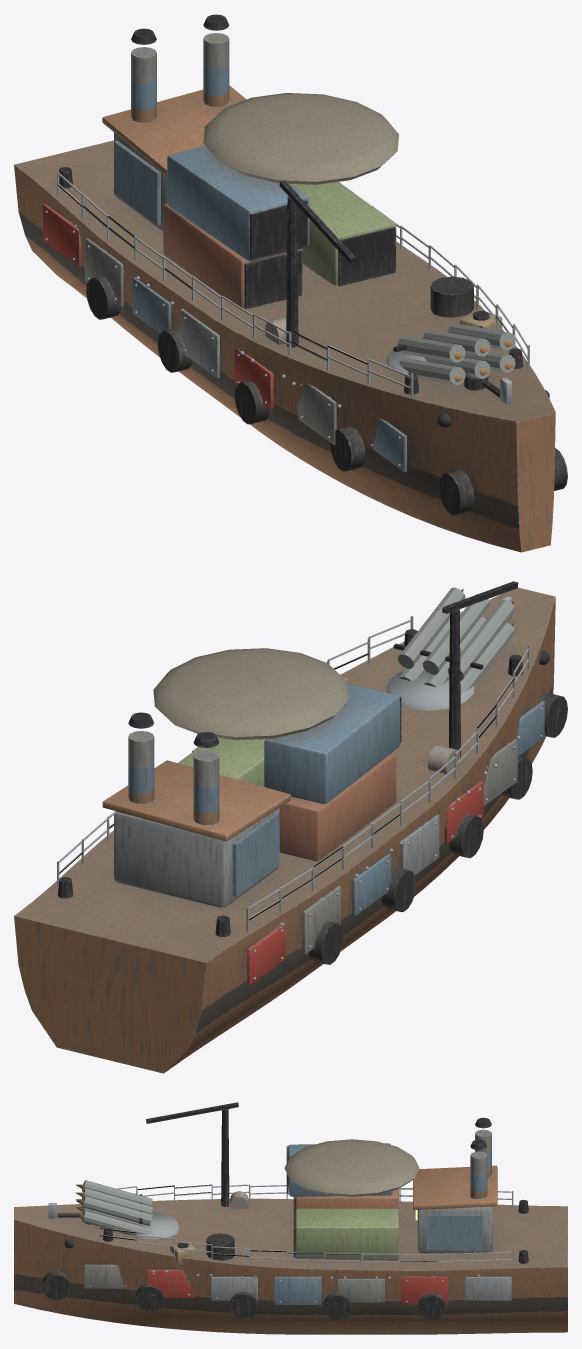
The model's file is frigate.glb.
3 renders of one model, top to bottom at view 1: azimuth 30°, elevation 25°; view 2: azimuth 150°, elevation 25°; view 3: azimuth 270°, elevation 25°, orthographic. The views are drawn at different scales.
Visible parts, largest first — view 1: Hull, Barrel; view 2: Hull, Barrel, Turret; view 3: Hull, Barrel, Turret.
Part boxes in pixels (x1,y1,x2,y2): Hull: [14, 14, 567, 552]; Barrel: [393, 323, 515, 384]; Hull: [14, 581, 567, 1073]; Barrel: [393, 587, 515, 693]; Turret: [386, 671, 474, 710]; Hull: [14, 1102, 567, 1334]; Barrel: [75, 1180, 152, 1235]; Turret: [135, 1212, 179, 1239].
Bounding box in the file's own units: 3.79 × 4.39 × 11.8.
Materials: 21 (17 with a texture image).
